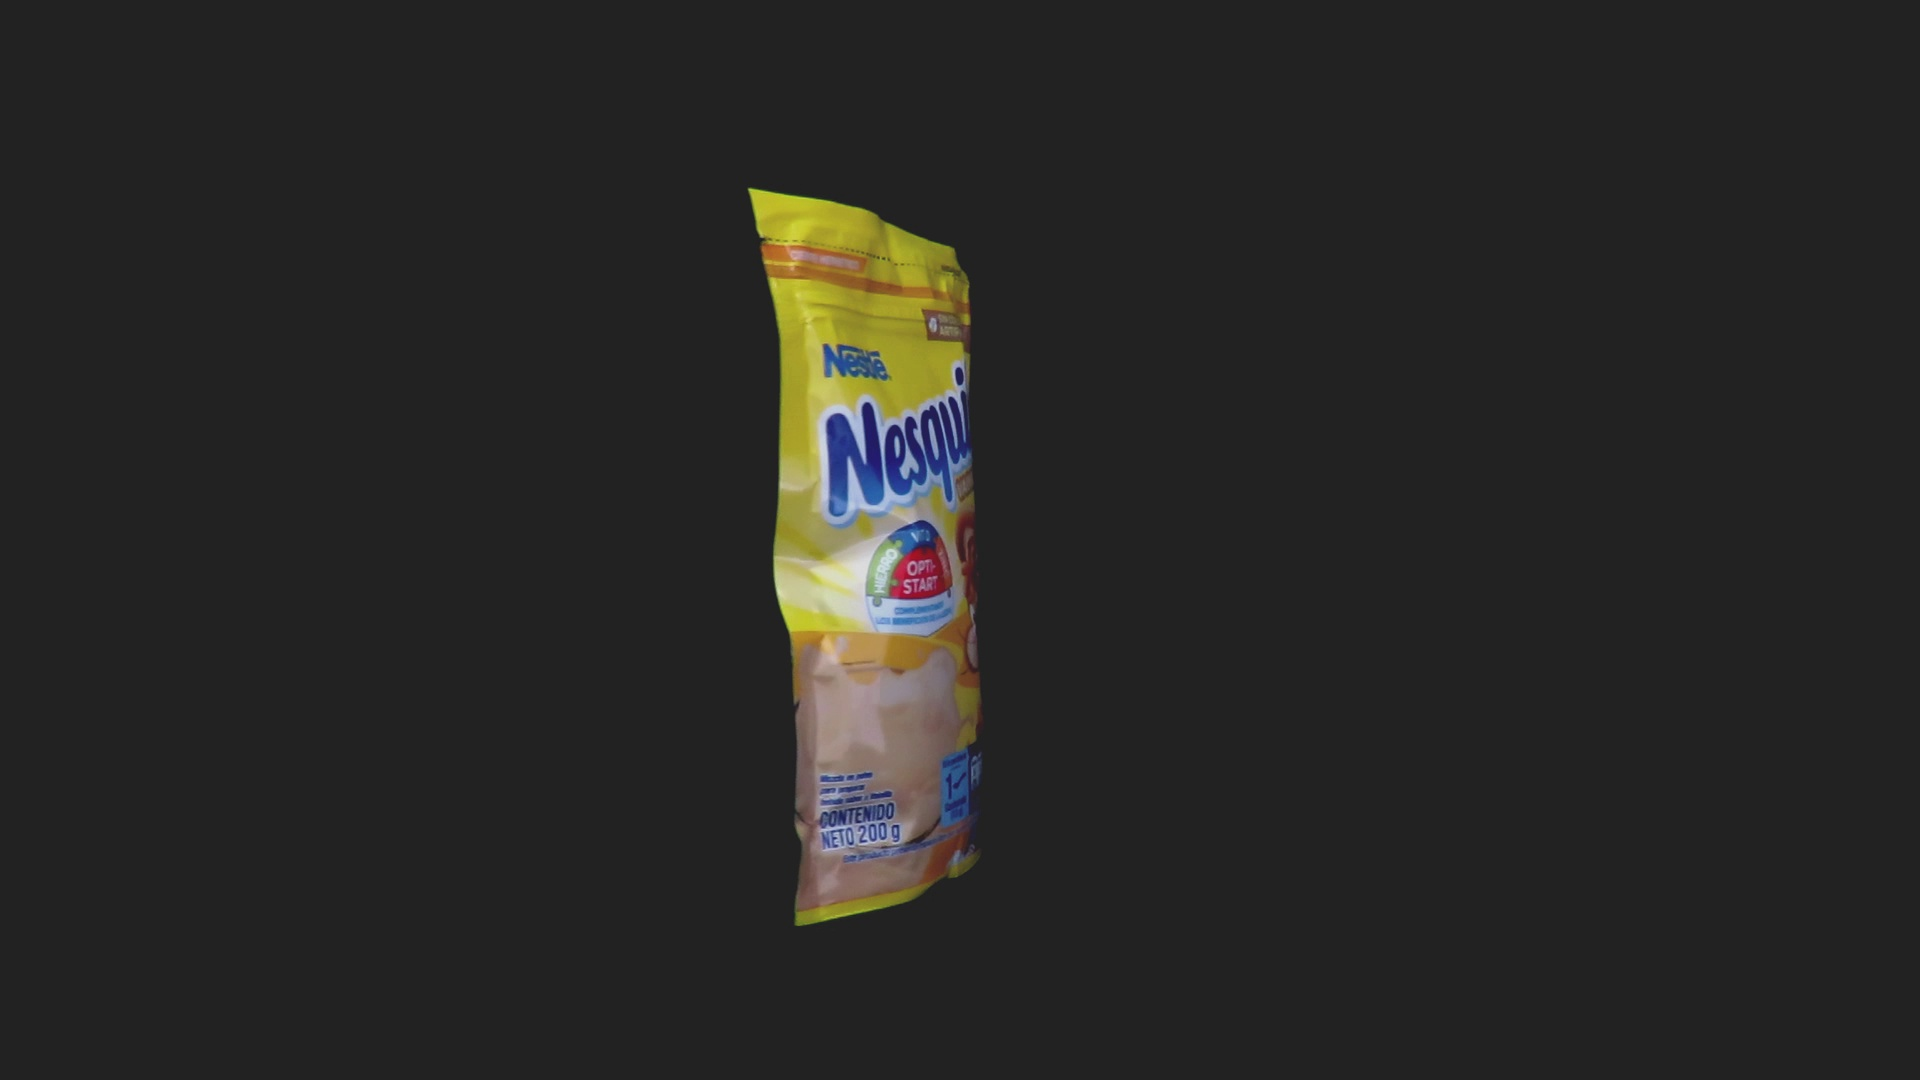COL0170306DYP20000: (742, 183, 988, 932)
